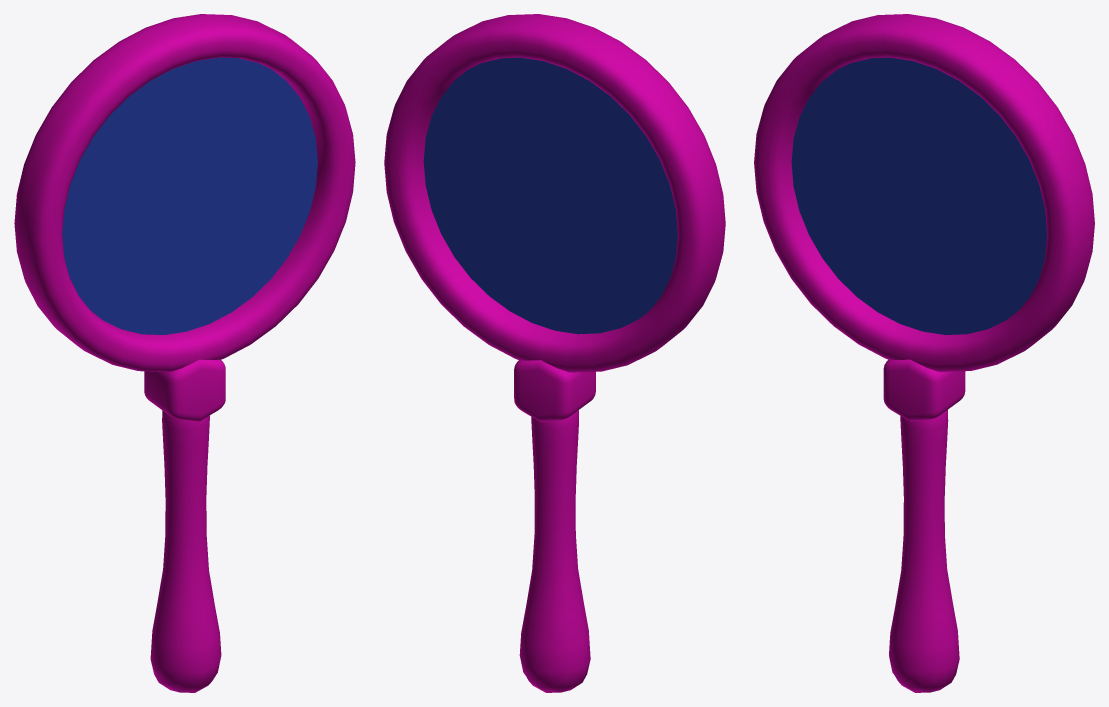
The model's file is Magnifying_Glass.fbx.
3 views of the same model, side by side, from view 1: azimuth 30°, elevation 25°; view 2: azimuth 150°, elevation 25°; view 3: azimuth 330°, elevation 25° (orthographic).
Visible parts, largest first — view 1: Magnifying_Glass; view 2: Magnifying_Glass; view 3: Magnifying_Glass.
Part boxes in pixels (x1,y1,x2,y2): Magnifying_Glass: [14, 14, 355, 692]; Magnifying_Glass: [384, 14, 725, 692]; Magnifying_Glass: [754, 14, 1094, 692].
Size of the model in its own units: 33.01 by 64.81 by 6.33.
